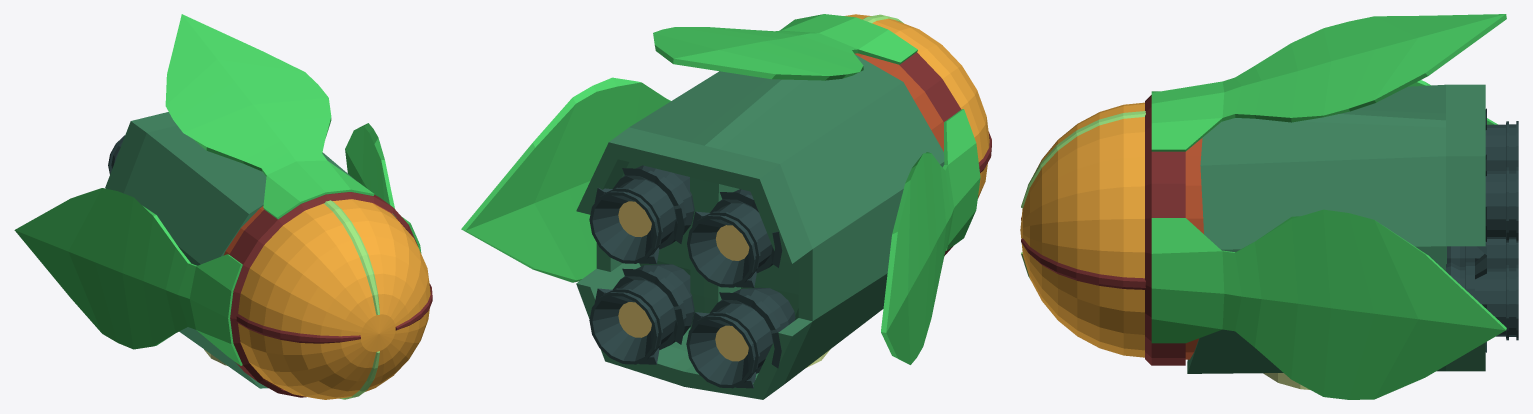
File: spaceship.fbx
3 renders of one model, left to right at view 1: azimuth 30°, elevation 25°; view 2: azimuth 150°, elevation 25°; view 3: azimuth 270°, elevation 25°, orthographic. The views are drawn at different scales.
Visible parts, largest first — view 1: Cockpit, Wing.002, Wing, MainBlock, BehindCockpit, Wing.001, CockpitHolders.001, CockpitHolders, InnerBehindCockpit; view 2: MainBlock, Wing.001, Wing.002, Wing, Engine.002, Engine.001, Engine.004, Engine.003, Cockpit, BehindCockpit, InnerBehindCockpit; view 3: Wing.001, MainBlock, Cockpit, Wing, BehindCockpit, Engine.002, Engine.001, Engine.003, InnerBehindCockpit, Engine.004, CockpitHolders.001, CockpitHolders.
Boxes of the visible parts, x1,y1,x2,y2 form: Cockpit: (238,199,430,399); Wing.002: (14,188,242,365); Wing: (165,14,374,219); MainBlock: (105,112,355,388); BehindCockpit: (229,192,418,397); Wing.001: (345,123,421,253); CockpitHolders.001: (236,283,432,343); CockpitHolders: (324,200,379,399); InnerBehindCockpit: (223,203,404,389); MainBlock: (576,54,944,399); Wing.001: (461,77,670,282); Wing.002: (881,109,980,364); Wing: (653,14,917,80); Engine.002: (589,264,694,364); Engine.001: (589,165,694,263); Engine.004: (686,287,795,388); Engine.003: (687,189,782,287); Cockpit: (845,14,989,198); BehindCockpit: (899,52,961,255); InnerBehindCockpit: (854,53,943,151); Wing.001: (1151,209,1506,399); MainBlock: (1187,84,1485,373); Cockpit: (1020,102,1144,357); Wing: (1151,14,1506,151); BehindCockpit: (1145,95,1185,365); Engine.002: (1446,254,1518,352); Engine.001: (1477,154,1518,254); Engine.003: (1485,108,1518,170); InnerBehindCockpit: (1185,138,1203,359); Engine.004: (1447,239,1518,268); CockpitHolders.001: (1021,217,1145,289); CockpitHolders: (1021,111,1145,279).
Size of the model in its own units: 371 by 388 by 300.
